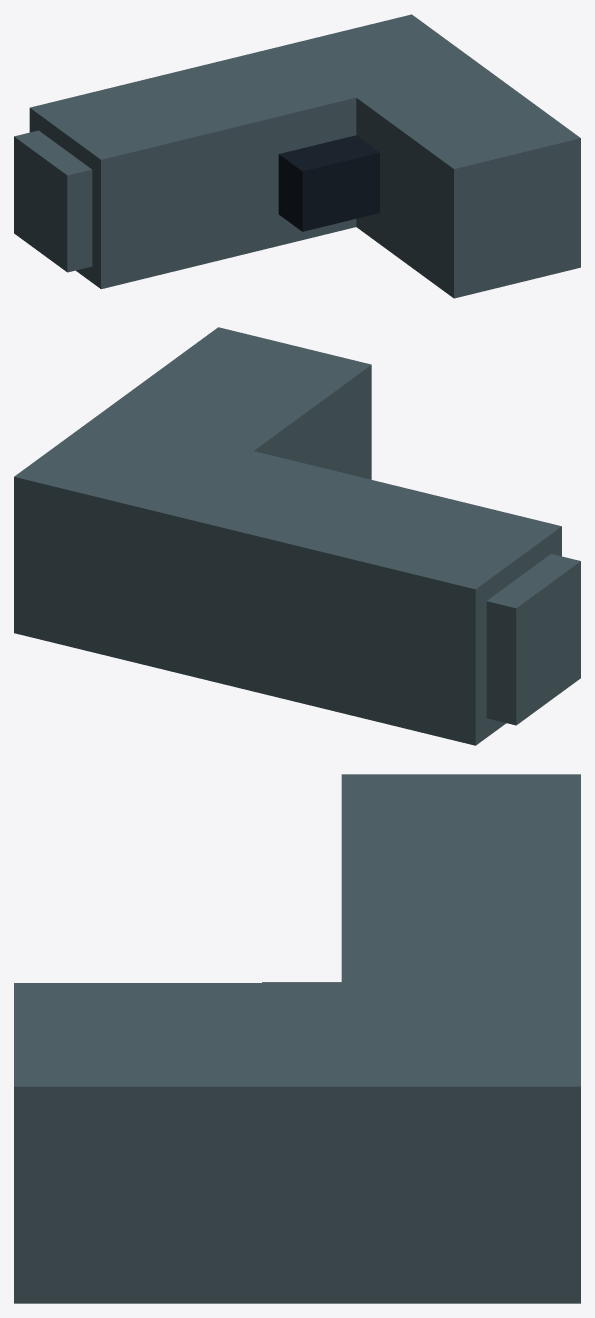
The model's file is (Msh)Gun.fbx.
The picture shows the model from 3 angles, top to bottom: view 1: azimuth 30°, elevation 25°; view 2: azimuth 150°, elevation 25°; view 3: azimuth 270°, elevation 25°; orthographic projection. The views are drawn at different scales.
Parts seen in each view (by area): view 1: gun; view 2: gun; view 3: gun.
Boxes of the visible parts, <box> form: gun: <box>14,14,580,298</box>; gun: <box>14,327,580,745</box>; gun: <box>14,774,580,1303</box>.
Size of the model in its own units: 658 by 200 by 474.
